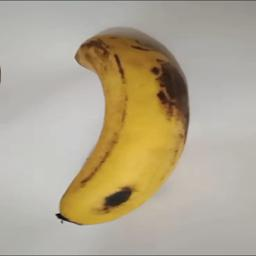Banana Unripe: (55, 36, 192, 226)
